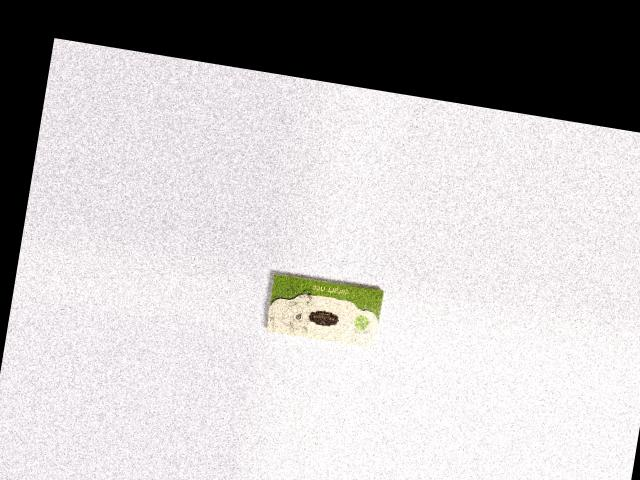chocolate: (263, 270, 385, 350)
